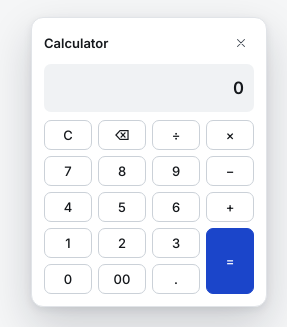
Calculator › shows the expression as it's typed and the result on =
Click the button "7" at (68, 171), box top-left (44, 156), bottom-right (92, 186)
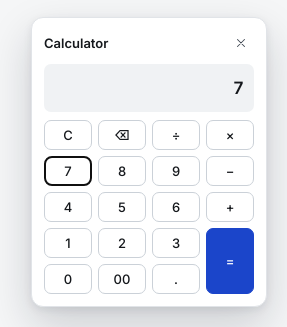
Click the button "+" at (230, 207), box top-left (206, 192), bottom-right (254, 222)
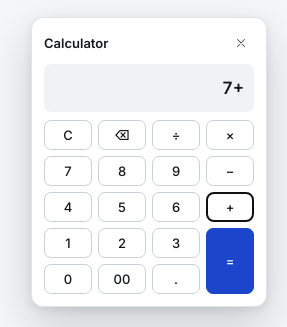
Click the button "5" at (122, 207), box top-left (98, 192), bottom-right (146, 222)
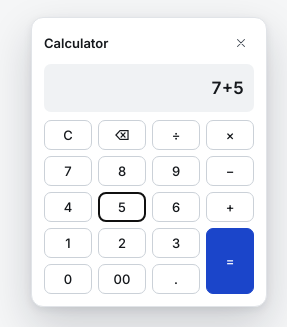
Click the button "×" at (230, 135), box top-left (206, 120), bottom-right (254, 150)
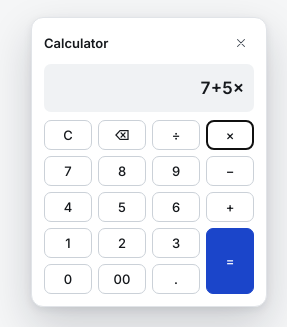
Click the button "2" at (122, 243), box top-left (98, 228), bottom-right (146, 258)
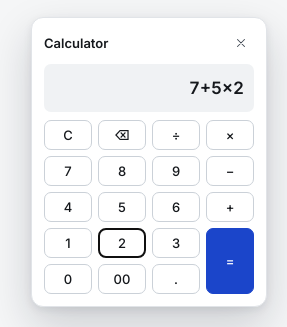
Check: the text with test id "calc-output" reads "7+5×2", box top-left (189, 78), bottom-right (244, 98)
Click the button "=" at (230, 261), box top-left (206, 228), bottom-right (254, 294)
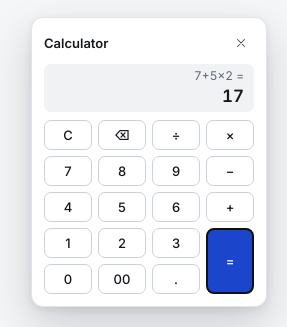
Check: the text with test id "calc-output" reads "17", box top-left (222, 86), bottom-right (244, 106)
Check: the text "7+5×2 =" is shown, box top-left (194, 67), bottom-right (244, 84)
